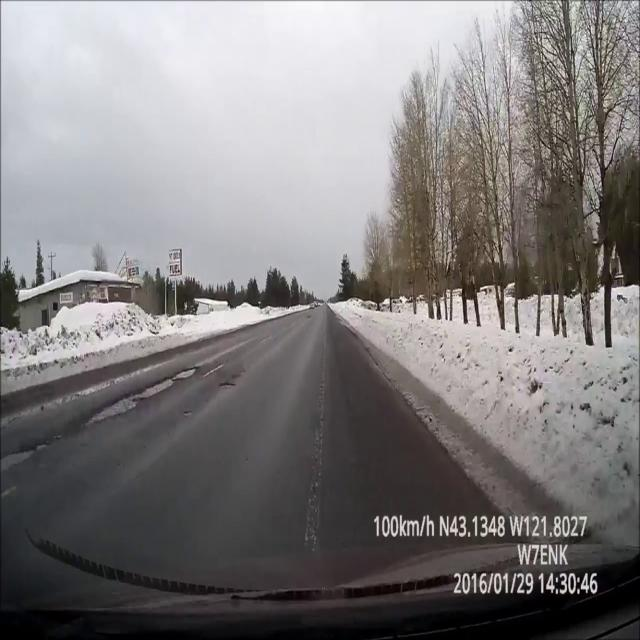Pothole: (0, 435, 56, 474), (85, 394, 140, 431), (142, 376, 173, 402), (174, 366, 196, 384), (219, 378, 236, 392)
